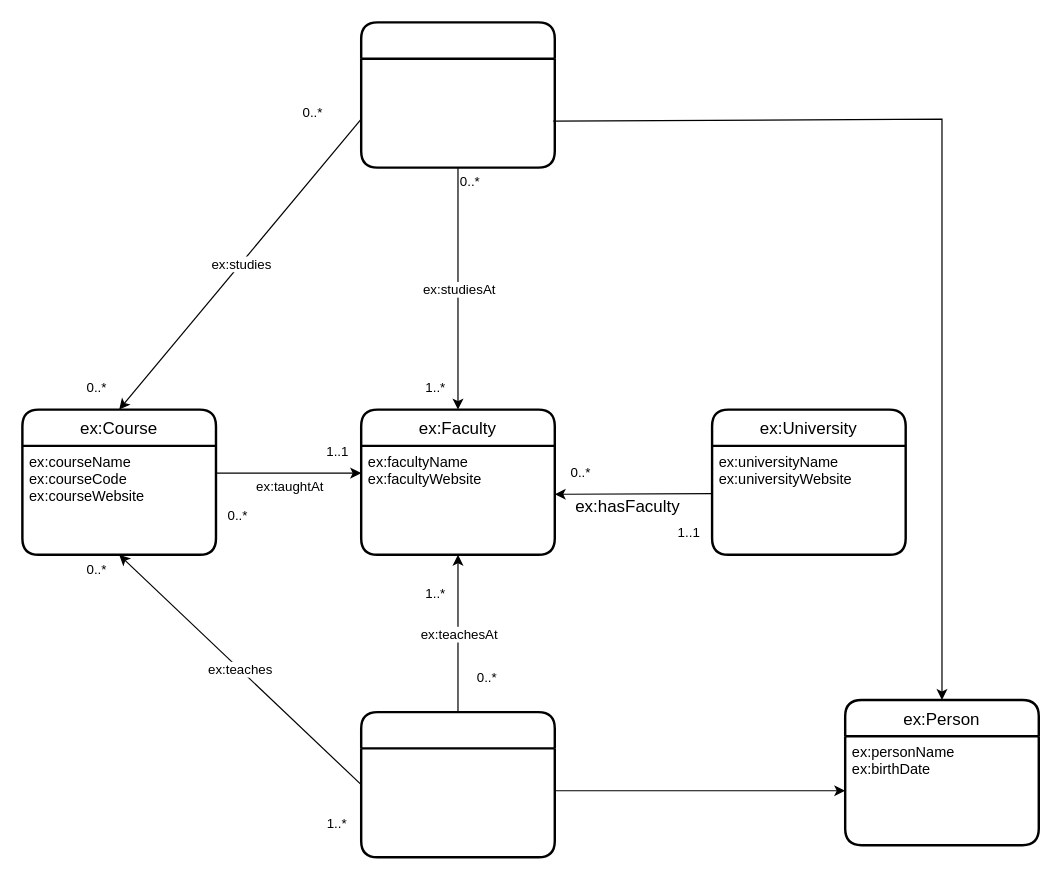
The diagram is 1060 pixels wide and 878 high, and some of its shapes have lost their labels. The shapes that lost their labels are listed below. From the top down, each one's centre as x and y in pixels, then its label:
At point 457,94: "ex:Student".
At point 457,784: "ex:Teacher".
